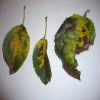Apple rust leaf: (54, 6, 98, 83), (2, 24, 31, 80), (32, 36, 54, 90)
